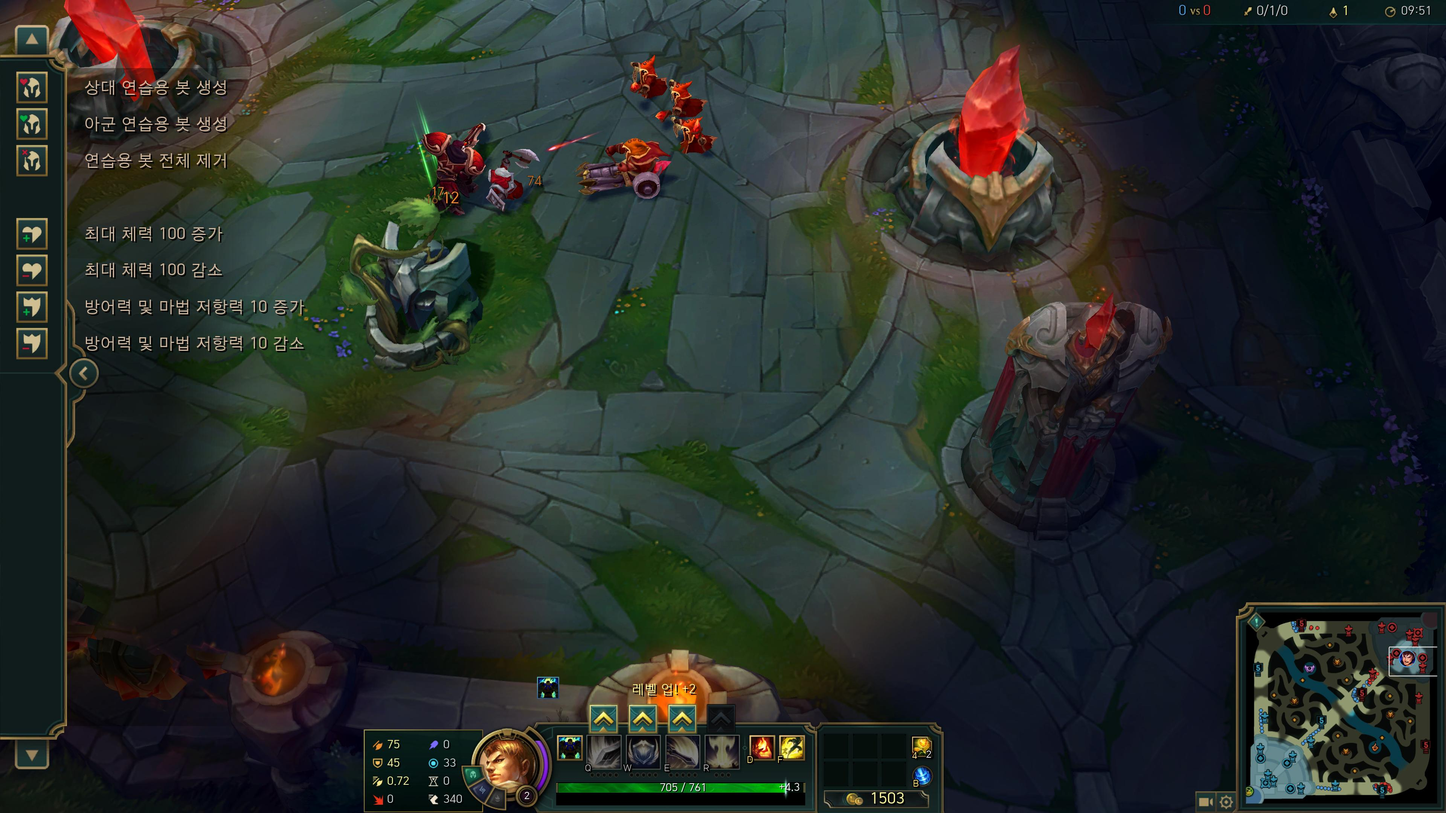enemy-caster-minion: (656, 80, 707, 121), (627, 54, 667, 100), (673, 116, 718, 155)
enemy-inhibitor: (847, 44, 1112, 289)
enemy-siege-minion: (578, 137, 671, 202)
enemy-tower: (941, 291, 1174, 556)
